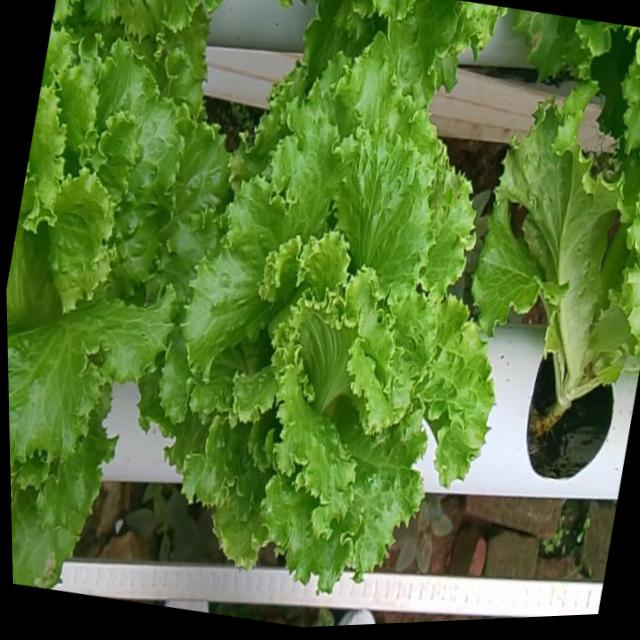Mature: (153, 66, 491, 609), (6, 52, 226, 487)
